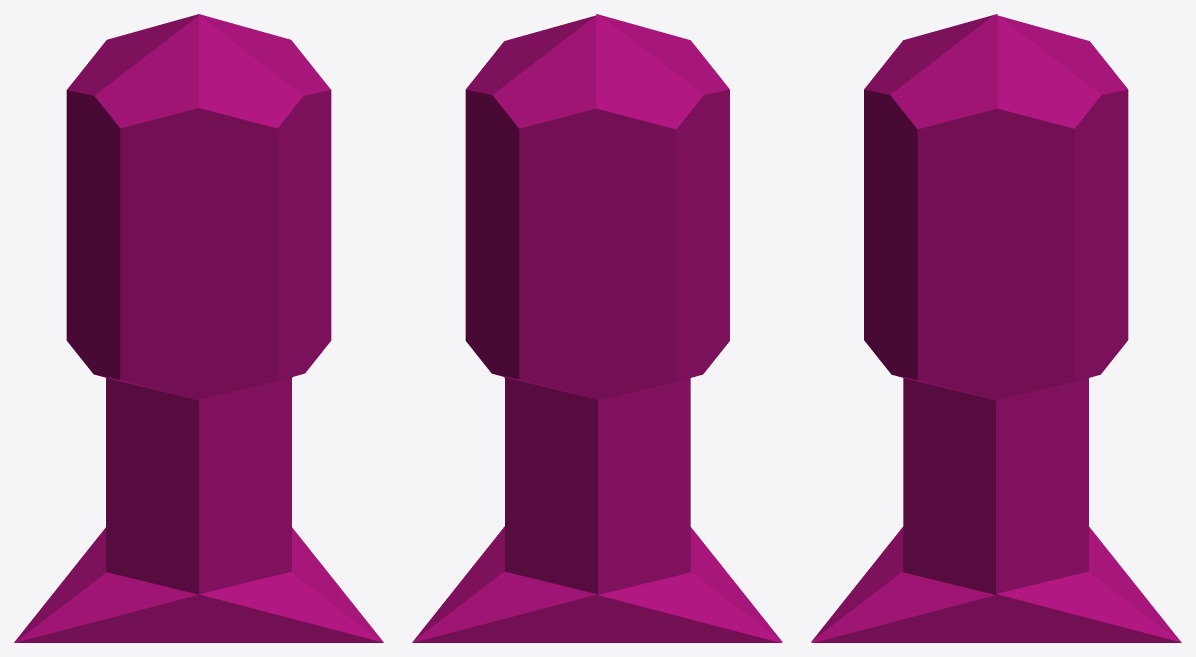
The model's file is Fate Game Piece V4 Fandango.glb.
3 views of the same model, side by side, from view 1: azimuth 30°, elevation 25°; view 2: azimuth 150°, elevation 25°; view 3: azimuth 270°, elevation 25° (orthographic).
Parts seen in each view (by area): view 1: Solid1; view 2: Solid1; view 3: Solid1.
Boxes of the visible parts, x1,y1,x2,y2 form: Solid1: [14, 14, 383, 642]; Solid1: [412, 14, 782, 642]; Solid1: [811, 14, 1181, 642].
Size of the model in its own units: 0.019 by 0.0381 by 0.022.
